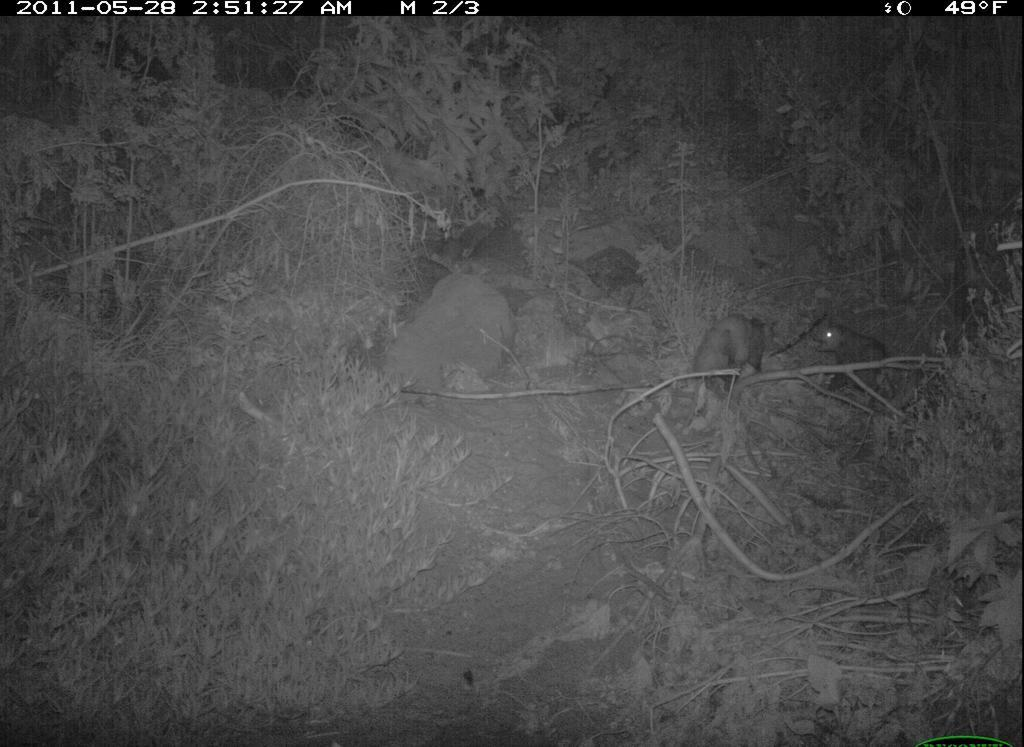opossum: (794, 300, 897, 418), (689, 309, 779, 408)
